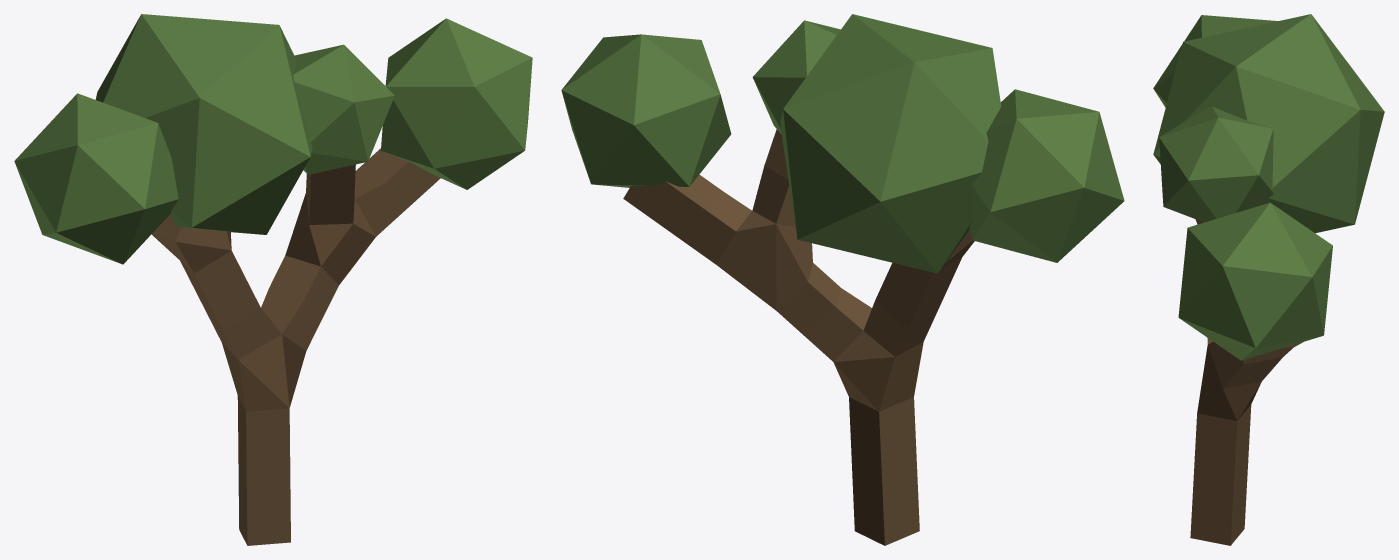
Rendered from petit_arbre.fbx.
The picture shows the model from 3 angles, left to right: view 1: azimuth 30°, elevation 25°; view 2: azimuth 150°, elevation 25°; view 3: azimuth 270°, elevation 25°; orthographic projection. The views are drawn at different scales.
Visible parts, largest first — view 1: Plan.001; view 2: Plan.001; view 3: Plan.001.
Boxes of the visible parts, x1,y1,x2,y2 form: Plan.001: (14,14,532,545); Plan.001: (561,14,1124,545); Plan.001: (1153,14,1384,545).
Size of the model in its own units: 820 by 787 by 340.
